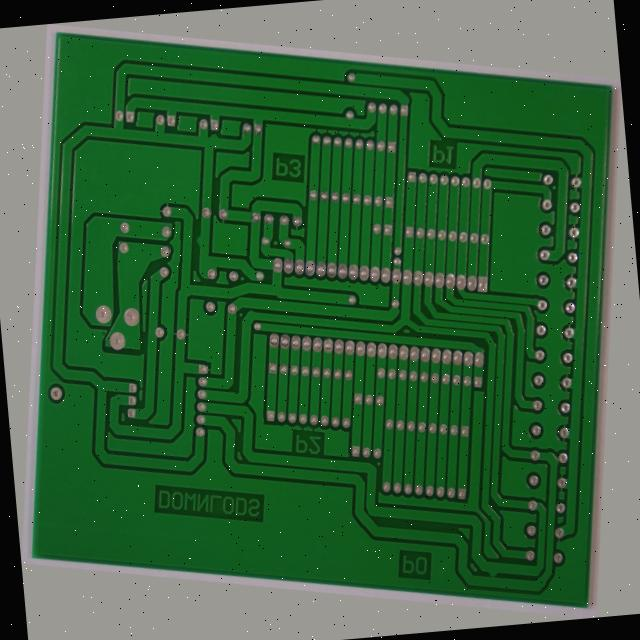spur: (167, 239, 181, 263), (539, 571, 555, 589), (165, 117, 181, 132)
